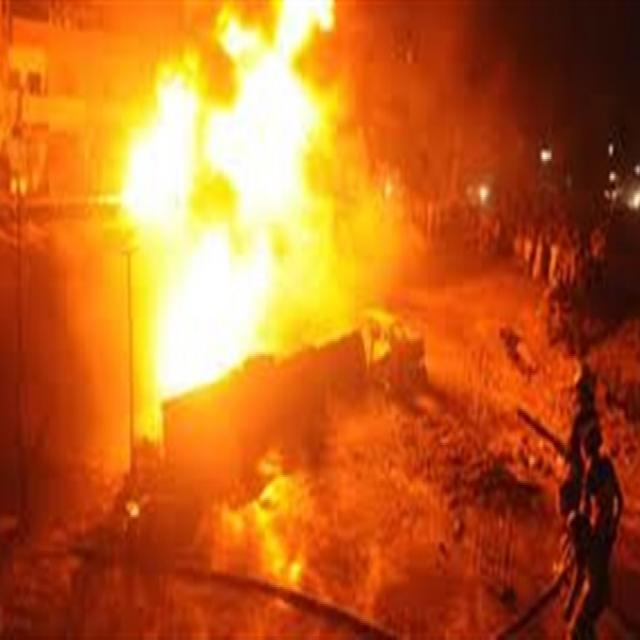Fire: (124, 0, 337, 439)
